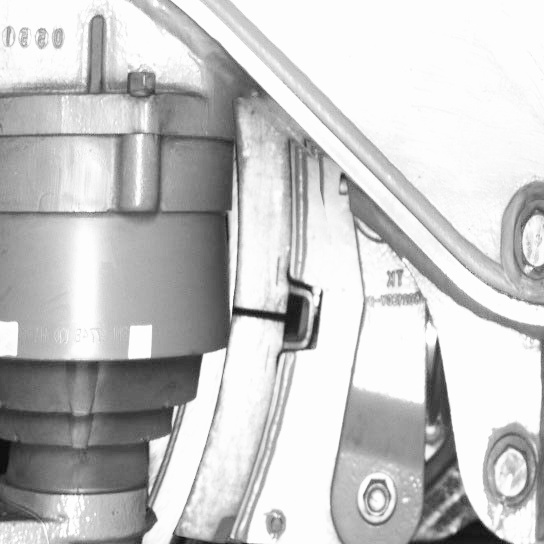ClosedKnifeSwitch: (165, 137, 292, 541)
